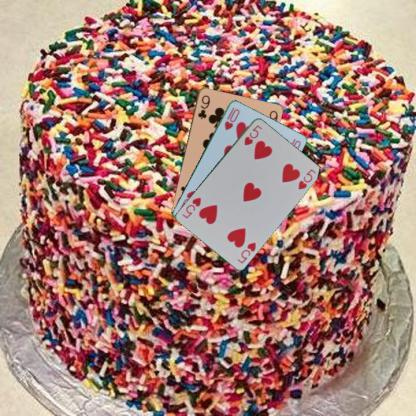10h: (222, 104, 241, 131)
5h: (235, 239, 257, 265), (241, 122, 263, 147)
9c: (195, 93, 211, 120)
